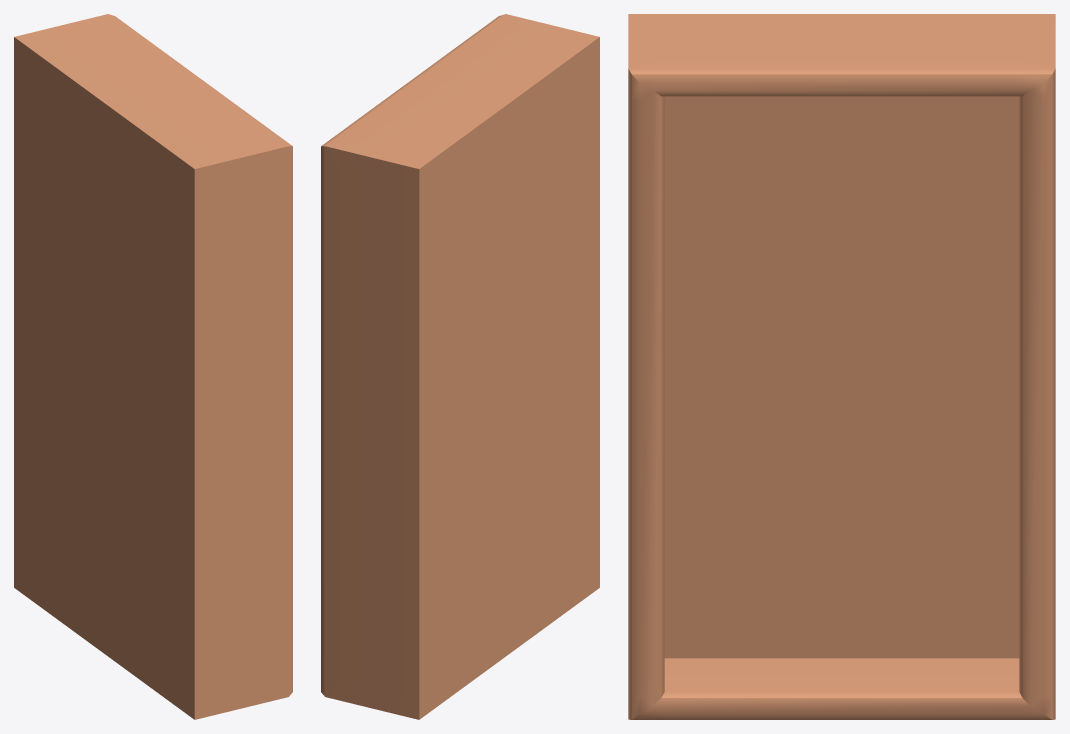
File: Board.fbx
3 views of the same model, side by side, from view 1: azimuth 30°, elevation 25°; view 2: azimuth 150°, elevation 25°; view 3: azimuth 270°, elevation 25° (orthographic). The views are drawn at different scales.
Parts seen in each view (by area): view 1: Board; view 2: Board; view 3: Board.
Part boxes in pixels (x1,y1,x2,y2): Board: (14,14,292,719); Board: (321,14,599,719); Board: (628,14,1055,719).
Size of the model in its own units: 2.85 by 14.7 by 8.74.
